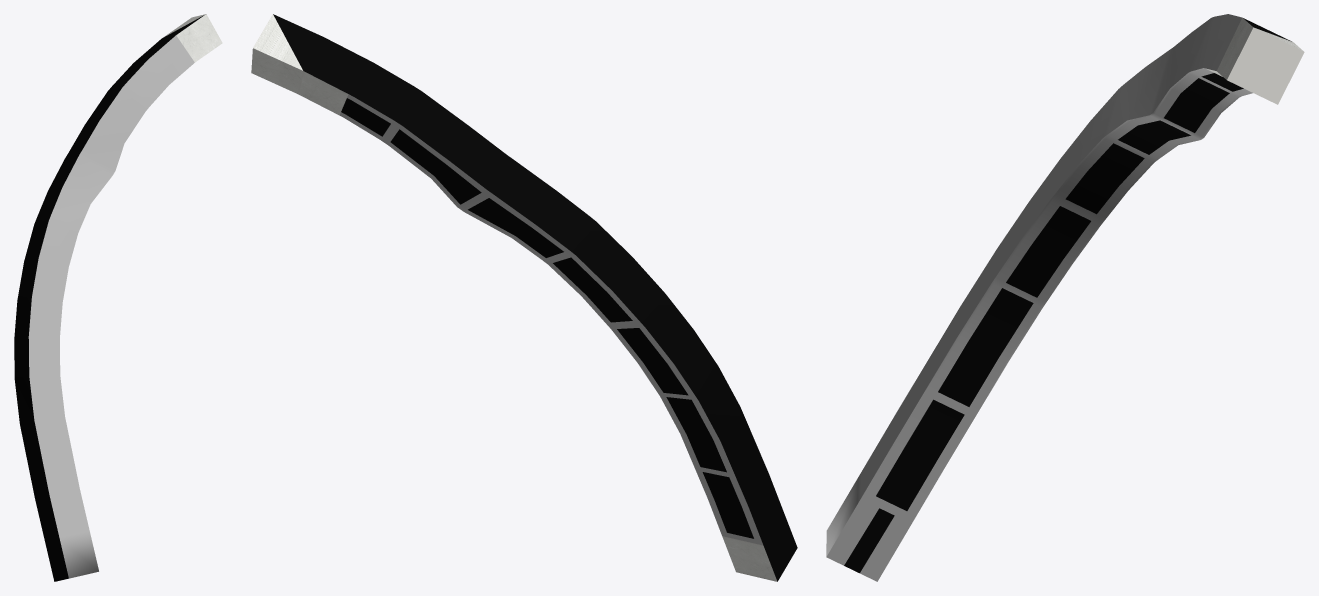
The model's file is BrokenArch.fbx.
3 views of the same model, side by side, from view 1: azimuth 30°, elevation 25°; view 2: azimuth 150°, elevation 25°; view 3: azimuth 270°, elevation 25° (orthographic). The views are drawn at different scales.
Parts seen in each view (by area): view 1: MuseumWhole.001; view 2: MuseumWhole.001; view 3: MuseumWhole.001.
Boxes of the visible parts, <box> form: MuseumWhole.001: <box>14,14,222,581</box>; MuseumWhole.001: <box>251,14,797,581</box>; MuseumWhole.001: <box>826,14,1304,581</box>.
Size of the model in its own units: 329 by 502 by 290.
